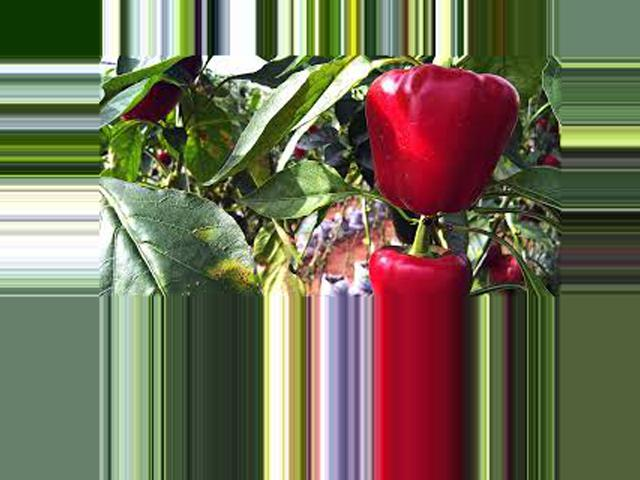bell_pepper: (356, 235, 476, 298)
